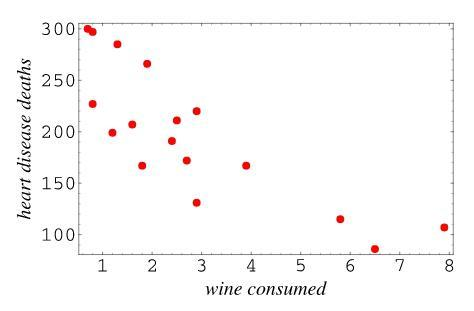axis: (81, 249, 457, 259), (74, 21, 84, 255)
point: (190, 197, 204, 209), (141, 58, 153, 69), (136, 160, 148, 171), (241, 159, 252, 171), (369, 243, 381, 254), (439, 221, 450, 233), (181, 155, 192, 166), (112, 39, 123, 49), (87, 99, 98, 109), (127, 119, 137, 130), (107, 128, 118, 138), (167, 135, 177, 146), (191, 106, 202, 116), (172, 116, 182, 126), (89, 27, 98, 37), (336, 214, 345, 224), (82, 25, 92, 33)
